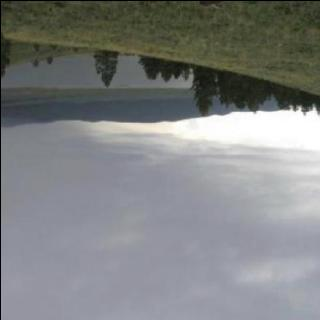Stratocumulus: (0, 133, 320, 320)
